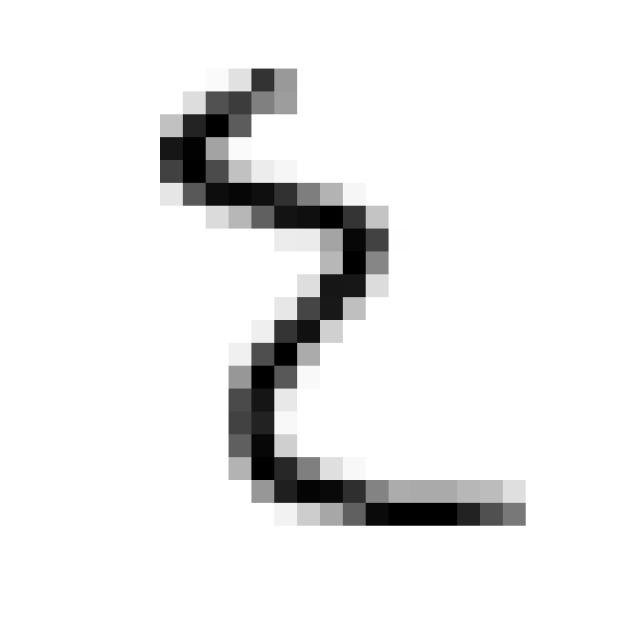4 -four-: (135, 43, 551, 549)
